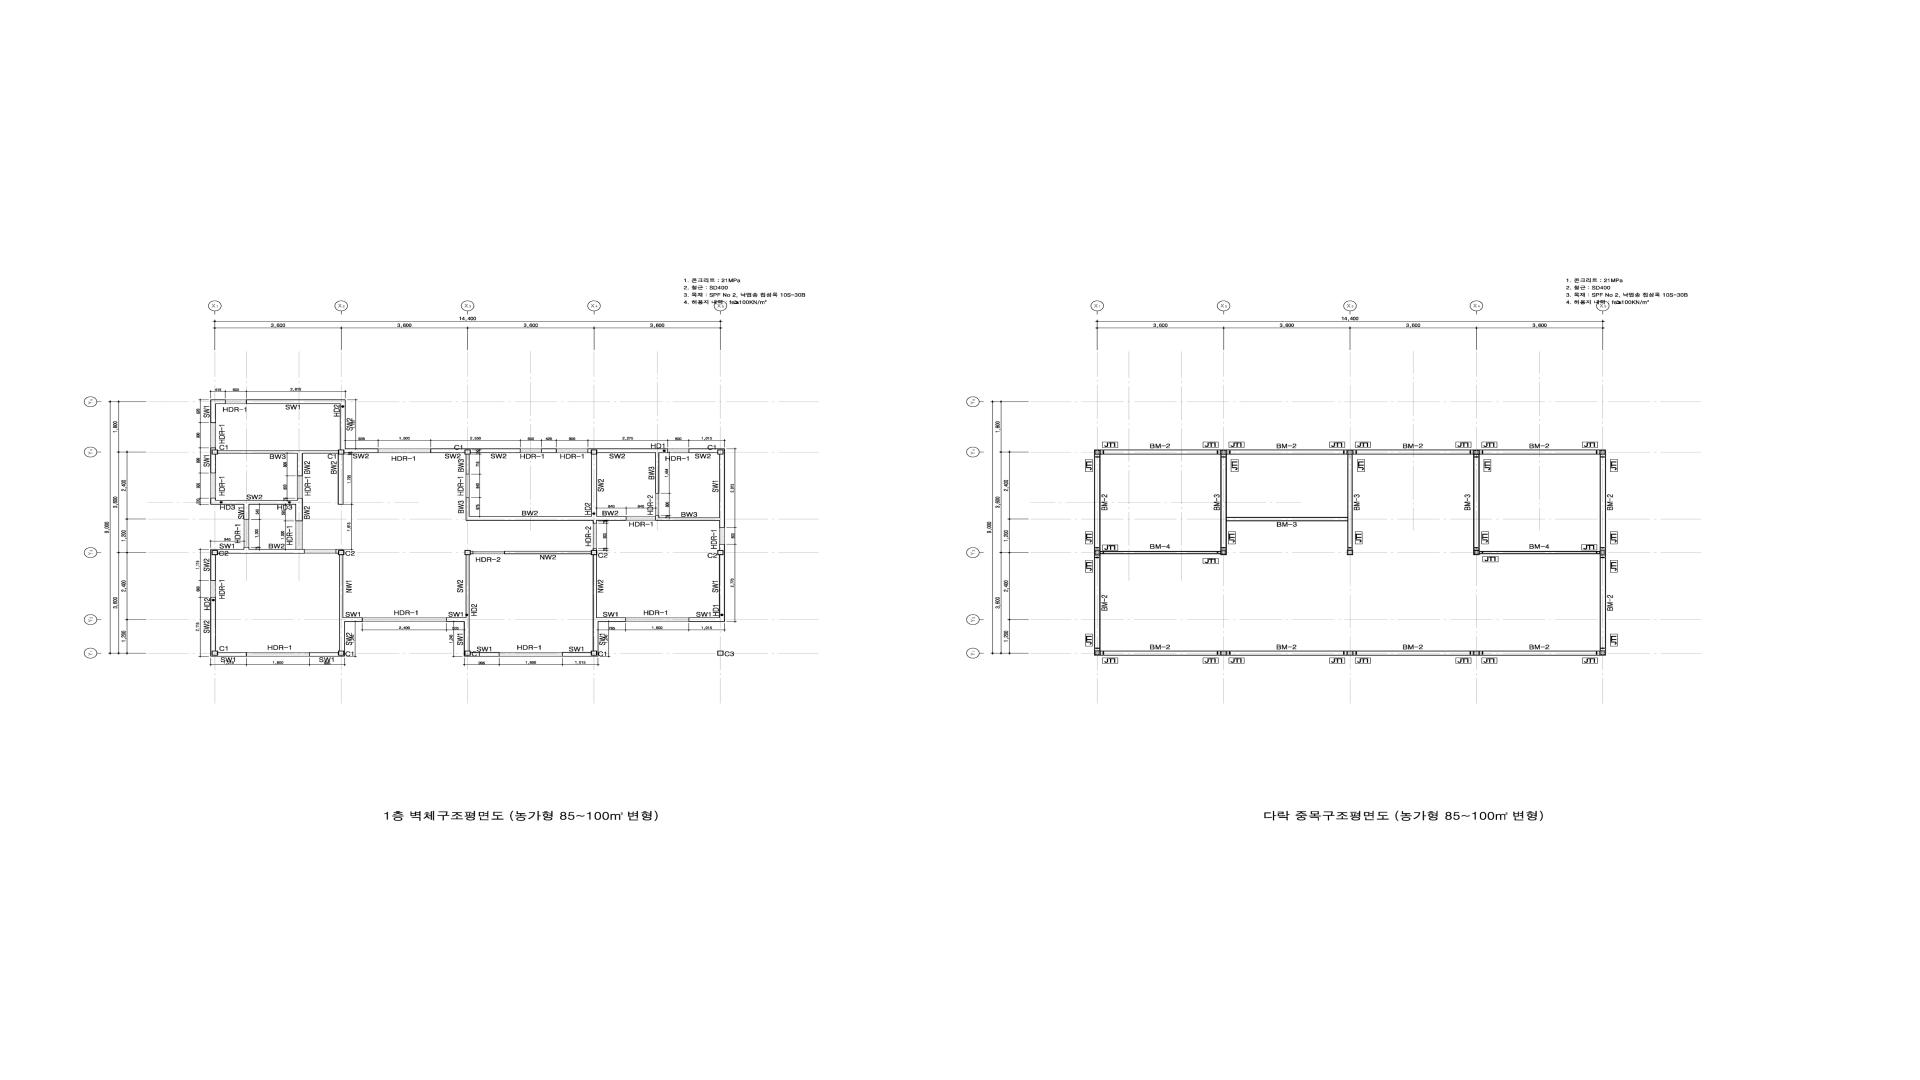door: (295, 521, 303, 549), (626, 516, 655, 521), (305, 550, 335, 554), (297, 476, 302, 498), (593, 524, 597, 549), (655, 493, 659, 516), (465, 475, 469, 497), (473, 551, 504, 554)
wall: (469, 516, 626, 521), (1226, 450, 1348, 455), (1226, 650, 1348, 655), (1473, 455, 1480, 551), (1353, 450, 1473, 455), (1480, 450, 1600, 455), (1480, 650, 1600, 655), (1353, 650, 1473, 655), (1101, 650, 1221, 655), (1095, 555, 1101, 650), (1095, 455, 1101, 550), (1101, 450, 1220, 455), (1600, 455, 1606, 550), (1600, 555, 1606, 650), (1220, 455, 1226, 550), (1348, 455, 1353, 550), (1226, 517, 1348, 521), (719, 455, 725, 527), (719, 555, 725, 617), (591, 455, 597, 516), (247, 400, 345, 404), (597, 448, 669, 454), (210, 597, 216, 650), (338, 455, 344, 505), (592, 555, 597, 617), (218, 451, 338, 454), (1480, 551, 1600, 554), (210, 497, 249, 505), (1101, 551, 1220, 554), (249, 549, 305, 554), (249, 500, 303, 505), (471, 448, 521, 454), (340, 404, 345, 454), (592, 617, 599, 657), (339, 555, 343, 617), (465, 555, 469, 617), (659, 517, 719, 521), (504, 551, 591, 554), (339, 617, 345, 650), (430, 448, 471, 454), (218, 547, 249, 554), (688, 617, 725, 622), (464, 651, 500, 657), (562, 651, 597, 657), (688, 448, 724, 454), (345, 448, 378, 454), (210, 447, 216, 473), (210, 555, 216, 580), (655, 454, 659, 493), (297, 454, 303, 476), (464, 622, 469, 650), (599, 617, 626, 622), (310, 653, 345, 657), (211, 653, 247, 657), (210, 404, 216, 423), (446, 617, 469, 622), (295, 505, 303, 521), (465, 497, 469, 521), (345, 617, 363, 622), (541, 448, 556, 454), (465, 455, 469, 475), (244, 505, 249, 520), (719, 545, 725, 555), (210, 400, 225, 404), (210, 549, 218, 555), (588, 448, 597, 454), (338, 650, 345, 655), (335, 549, 343, 554), (211, 650, 218, 655), (464, 650, 471, 655), (591, 650, 597, 655), (464, 550, 471, 555), (591, 550, 597, 555), (717, 550, 724, 555), (717, 450, 724, 455), (591, 450, 597, 455), (464, 450, 471, 455), (338, 550, 344, 555), (338, 450, 344, 455), (1095, 650, 1101, 655), (1600, 650, 1606, 655), (1600, 550, 1606, 555), (1600, 450, 1606, 455), (1473, 450, 1480, 455), (1220, 450, 1226, 455), (1095, 450, 1101, 455), (1095, 550, 1101, 555), (1220, 550, 1226, 555), (1473, 650, 1480, 655), (1346, 650, 1353, 655), (1220, 650, 1226, 655), (1346, 550, 1353, 555), (212, 450, 218, 455), (212, 550, 218, 555), (1348, 450, 1353, 455), (1473, 551, 1480, 555), (655, 516, 659, 521), (592, 521, 597, 524), (724, 448, 725, 455), (210, 650, 211, 657), (297, 498, 303, 500), (471, 551, 473, 554), (592, 549, 597, 550)
window: (363, 617, 446, 622), (626, 617, 688, 622), (500, 651, 562, 657), (378, 448, 430, 454), (247, 653, 310, 657), (556, 448, 588, 454), (210, 473, 216, 498), (210, 423, 216, 447), (244, 520, 249, 547), (210, 580, 216, 597), (719, 527, 725, 545), (521, 448, 541, 454), (669, 448, 688, 454), (225, 400, 247, 404)
